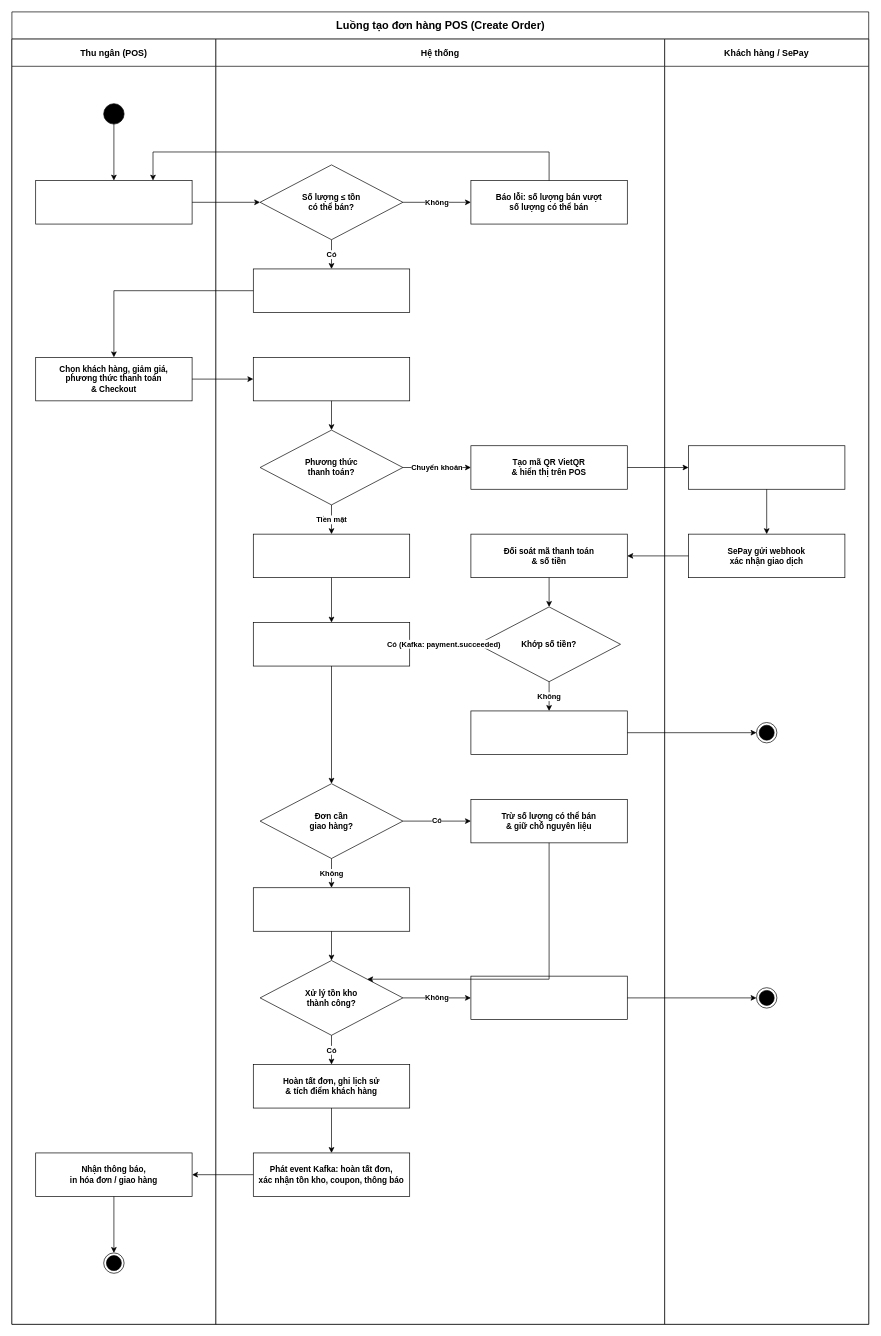
The diagram is 881 pixels wide and 1336 high, and some of its shapes have lost their labels. Each missing label, with the centre of its shape:
"Chuyển đơn sang PENDING_PAYMENT & tạo yêu cầu thanh toán" goes at pixel 331 379.
"Chọn sản phẩm, nhập số lượng" goes at pixel 113 202.
"Ghi nhận thanh toán tiền mặt" goes at pixel 331 555.
"Giữ đơn PAYMENT_CONFIRMED, chờ xử lý lại tồn kho" goes at pixel 548 997.
"Khách quét QR, chuyển khoản" goes at pixel 766 467.
"Trừ thành phẩm trên kệ & giữ chỗ nguyên liệu sản xuất bù" goes at pixel 331 909.
"Tạo / cập nhật hóa đơn nháp (DRAFT), tính tổng tiền, gia hạn 15 phút" goes at pixel 331 290.
"Xác nhận đơn đã thanh toán (PAID)" goes at pixel 331 644.
"Đánh dấu cần kiểm tra thủ công, đơn giữ PENDING_PAYMENT" goes at pixel 548 732.
